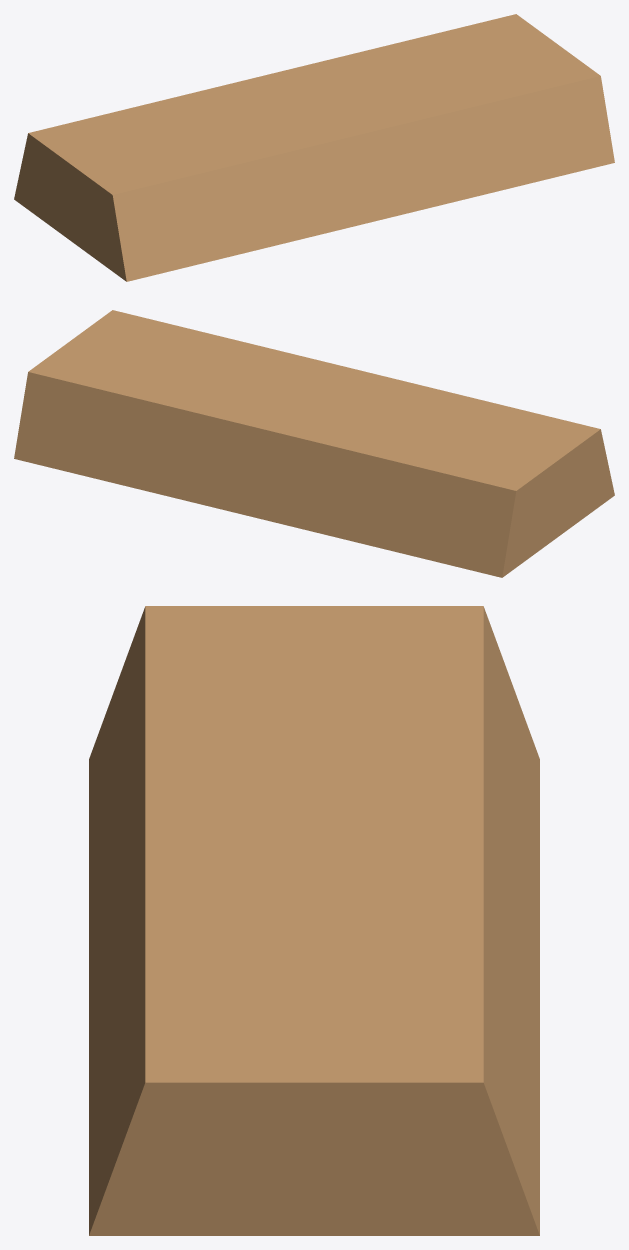
File: Wall_Straight_Base.fbx
The picture shows the model from 3 angles, top to bottom: view 1: azimuth 30°, elevation 25°; view 2: azimuth 150°, elevation 25°; view 3: azimuth 270°, elevation 25°; orthographic projection. The views are drawn at different scales.
Parts seen in each view (by area): view 1: object1; view 2: object1; view 3: object1.
Boxes of the visible parts, <box> form: object1: <box>14,14,614,281</box>; object1: <box>14,310,614,577</box>; object1: <box>89,606,539,1235</box>.
Size of the model in its own units: 1 by 0.15 by 0.4.
